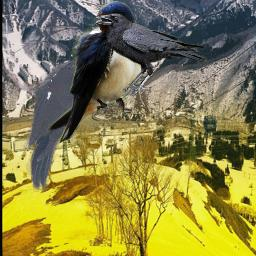Crow: (95, 13, 207, 96)
Swallow: (47, 0, 151, 146)
Woodpecker: (5, 41, 136, 192)
